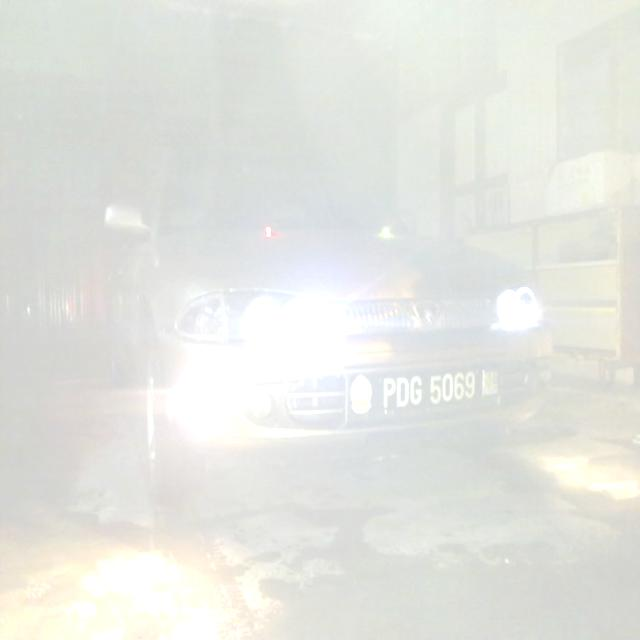Car: (97, 141, 554, 510)
